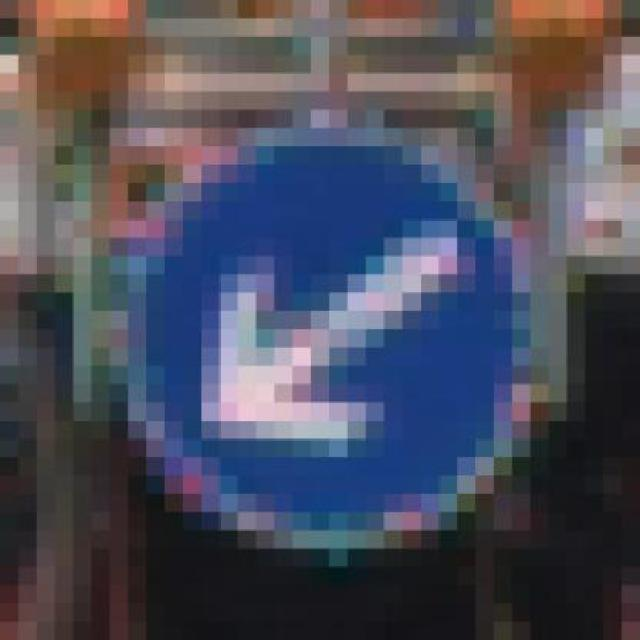Keep-Left: (55, 92, 567, 586)
